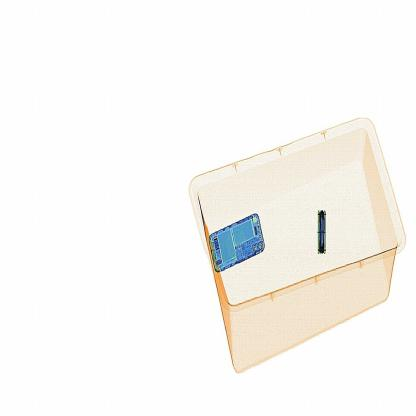scissors: (314, 206, 332, 262)
